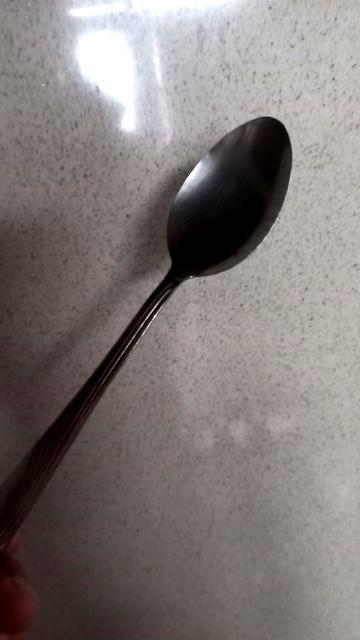Spoon: (0, 118, 291, 552)
